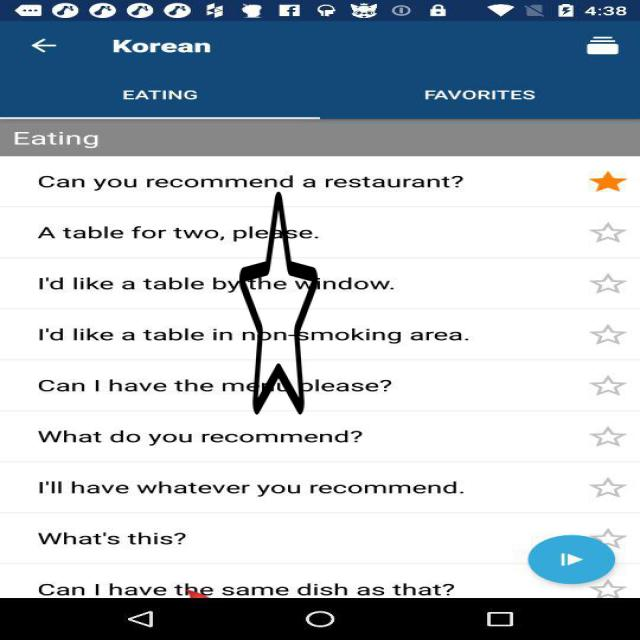forced continuity: (240, 187, 318, 419)
